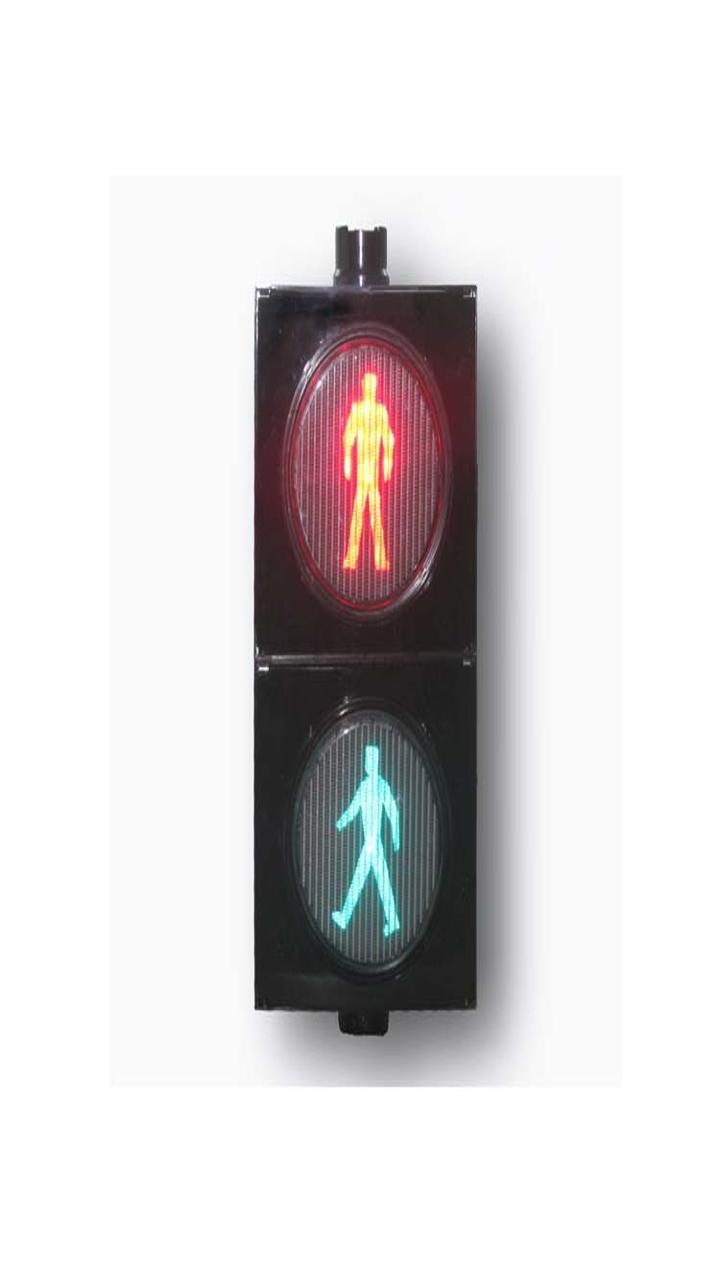Traffic sign: (231, 276, 520, 656), (228, 668, 506, 1020)
